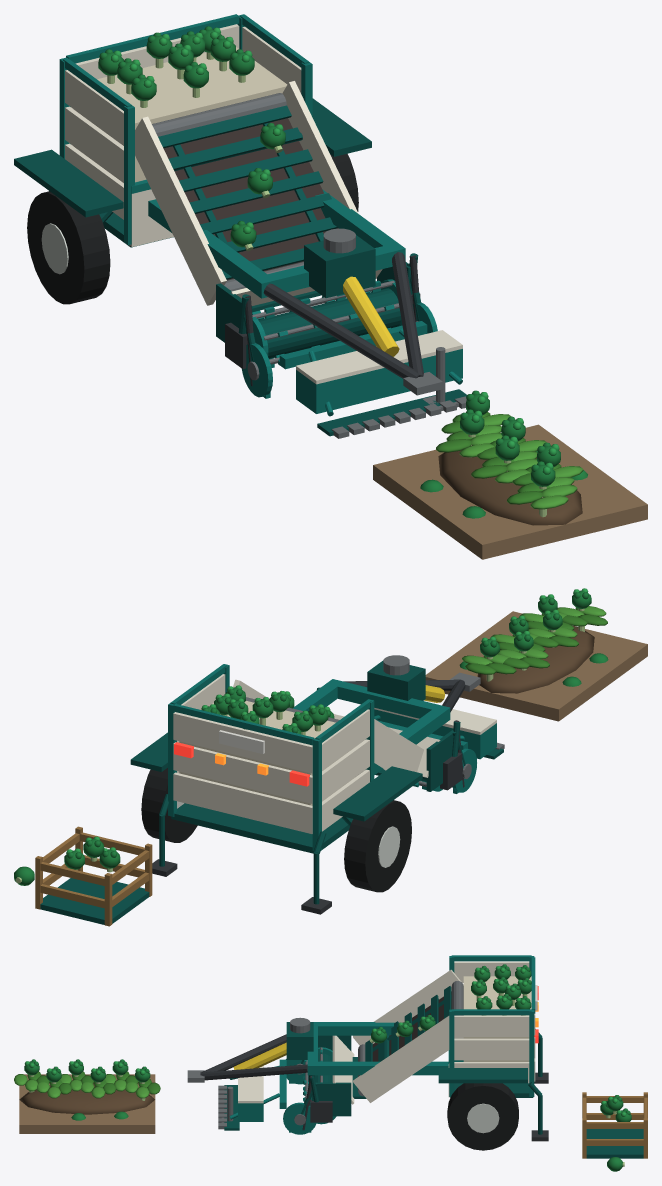
Rendered from broccoli_harvester.glb.
3 renders of one model, top to bottom at view 1: azimuth 30°, elevation 25°; view 2: azimuth 150°, elevation 25°; view 3: azimuth 270°, elevation 25°, orthographic. The views are drawn at different scales.
Parts seen in each view (by area): view 1: BroccoliBody, BroccoliProps, BroccoliPickup; view 2: BroccoliBody, BroccoliProps; view 3: BroccoliBody, BroccoliProps, BroccoliPickup.
Part boxes in pixels (left/top/right/bottom): BroccoliBody: left=14, top=14, right=466, bottom=438; BroccoliProps: left=373, top=390, right=647, bottom=559; BroccoliPickup: left=252, top=279, right=402, bottom=367; BroccoliBody: left=130, top=655, right=504, bottom=914; BroccoliProps: left=14, top=588, right=647, bottom=926; BroccoliBody: left=187, top=955, right=548, bottom=1150; BroccoliProps: left=14, top=1059, right=647, bottom=1171; BroccoliPickup: left=303, top=1047, right=336, bottom=1124.
Bounding box in the file's own units: 3.02 × 1.69 × 7.45.
